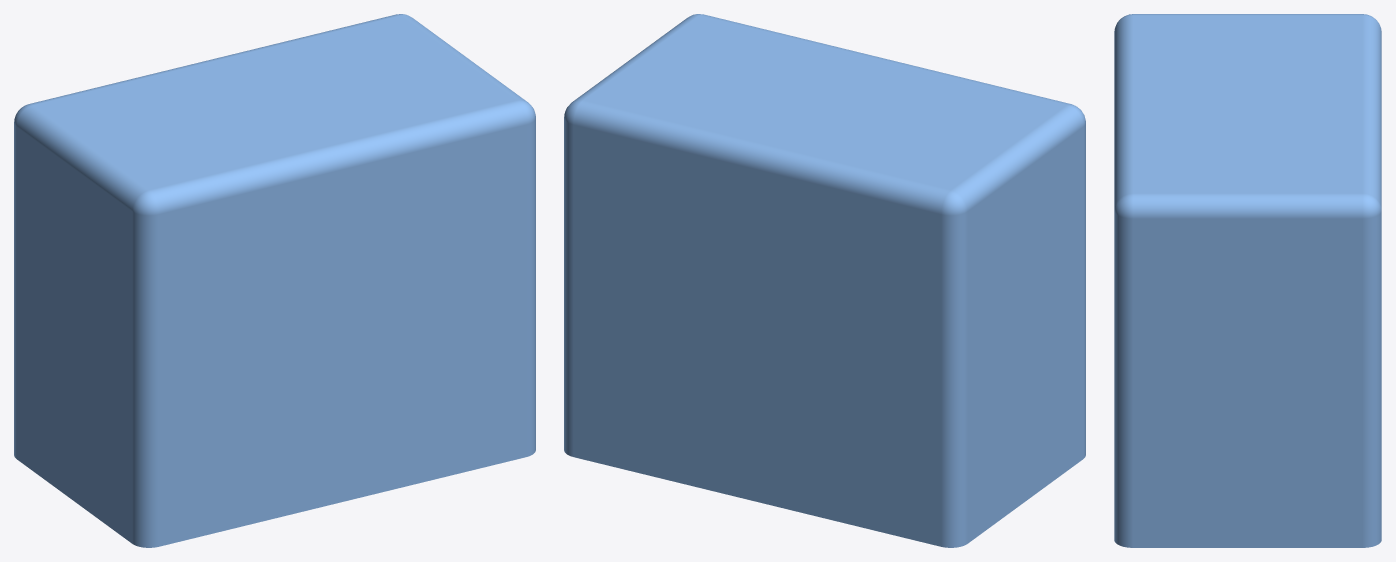
Rendered from midi_button_blue.glb.
3 renders of one model, left to right at view 1: azimuth 30°, elevation 25°; view 2: azimuth 150°, elevation 25°; view 3: azimuth 270°, elevation 25°, orthographic.
Size of the model in its own units: 0.024 by 0.02 by 0.014.
